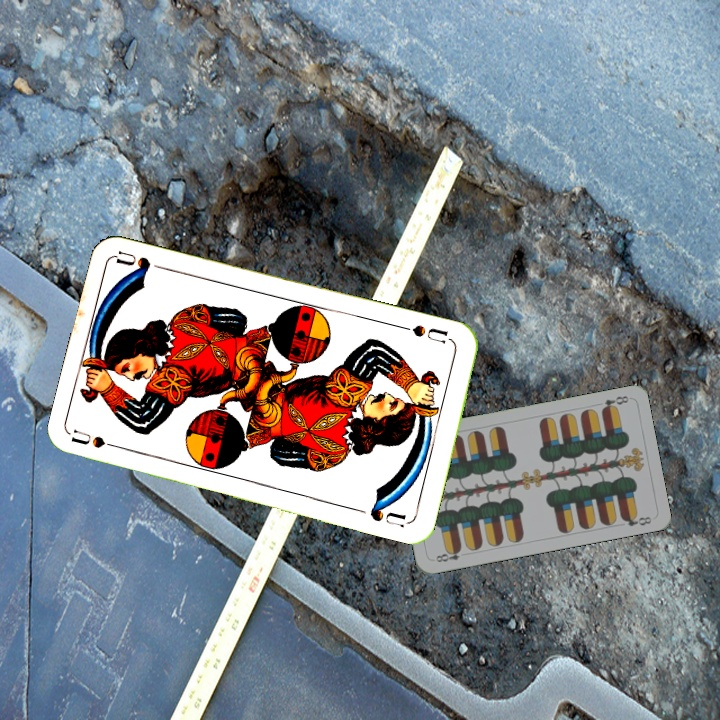E8: (598, 392, 631, 414), (432, 544, 464, 565)
SU: (69, 425, 129, 453), (396, 321, 455, 346)
